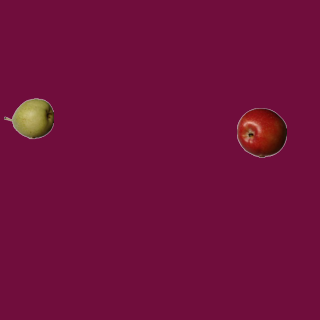Apple Braeburn: (236, 107, 286, 157)
Pear: (3, 93, 53, 143)
